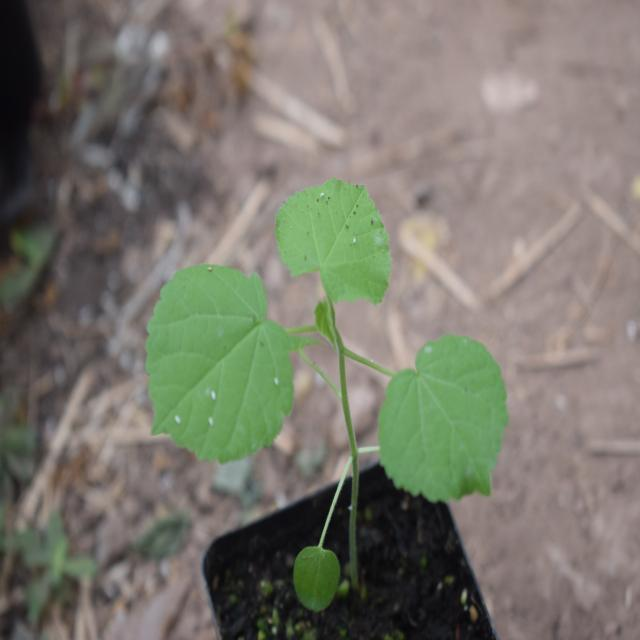abutilon theophrasti: (131, 184, 510, 581)
